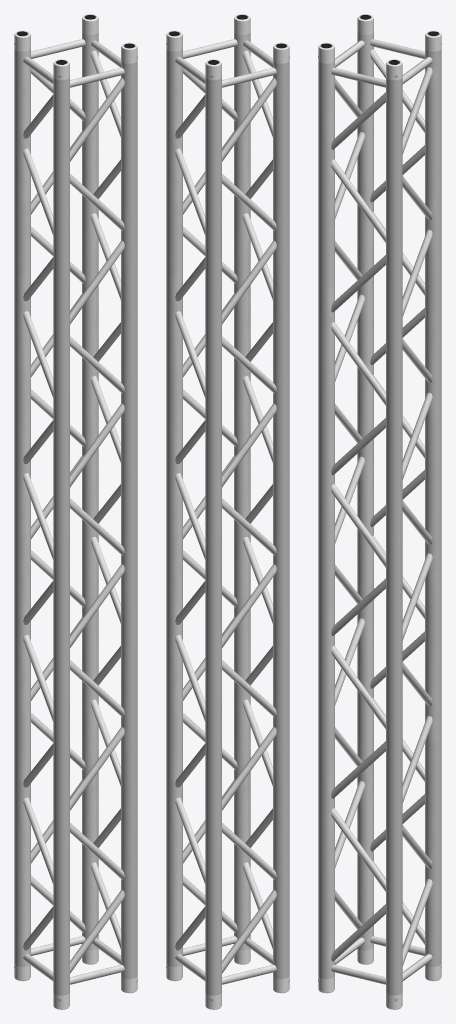
The model's file is SM_Truss_400_Straight.fbx.
The picture shows the model from 3 angles, left to right: view 1: azimuth 30°, elevation 25°; view 2: azimuth 210°, elevation 25°; view 3: azimuth 330°, elevation 25°; orthographic projection.
Parts seen in each view (by area): view 1: SM_Truss_400_Straight_LOD0; view 2: SM_Truss_400_Straight_LOD0; view 3: SM_Truss_400_Straight_LOD0.
Boxes of the visible parts, x1,y1,x2,y2 form: SM_Truss_400_Straight_LOD0: (14, 14, 137, 1009); SM_Truss_400_Straight_LOD0: (166, 14, 289, 1009); SM_Truss_400_Straight_LOD0: (318, 14, 441, 1009).
Bounding box in the file's own units: 36.32 × 36.32 × 400.
1 material, 1 textured.
